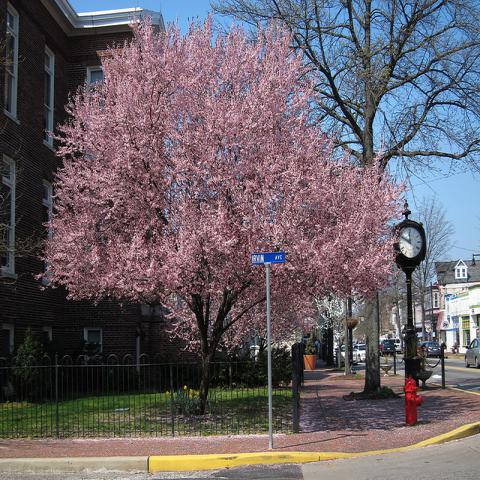car: (464, 336, 480, 369), (335, 344, 358, 366), (420, 342, 440, 358), (379, 340, 398, 354), (354, 344, 365, 363), (389, 338, 402, 354), (417, 336, 424, 356), (333, 351, 337, 357)
